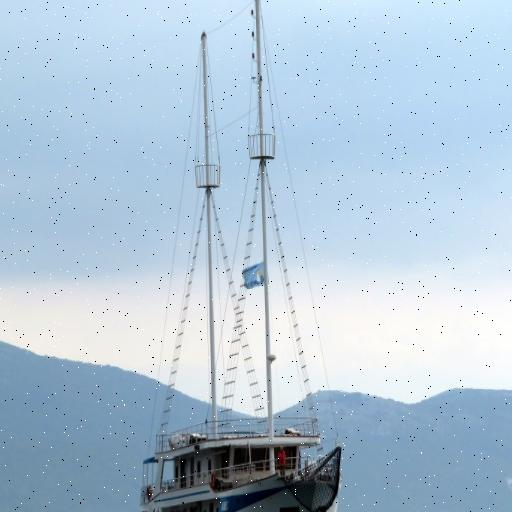cruises: (133, 402, 348, 512)
